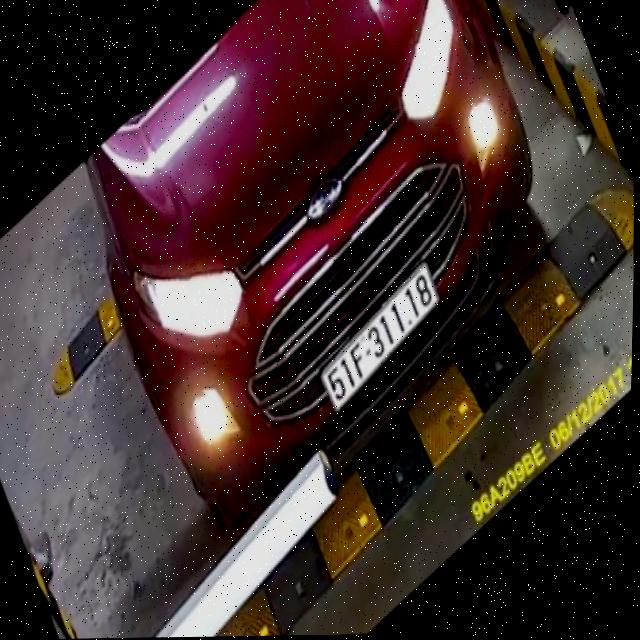car: (61, 0, 554, 531)
plate: (312, 260, 447, 416)
